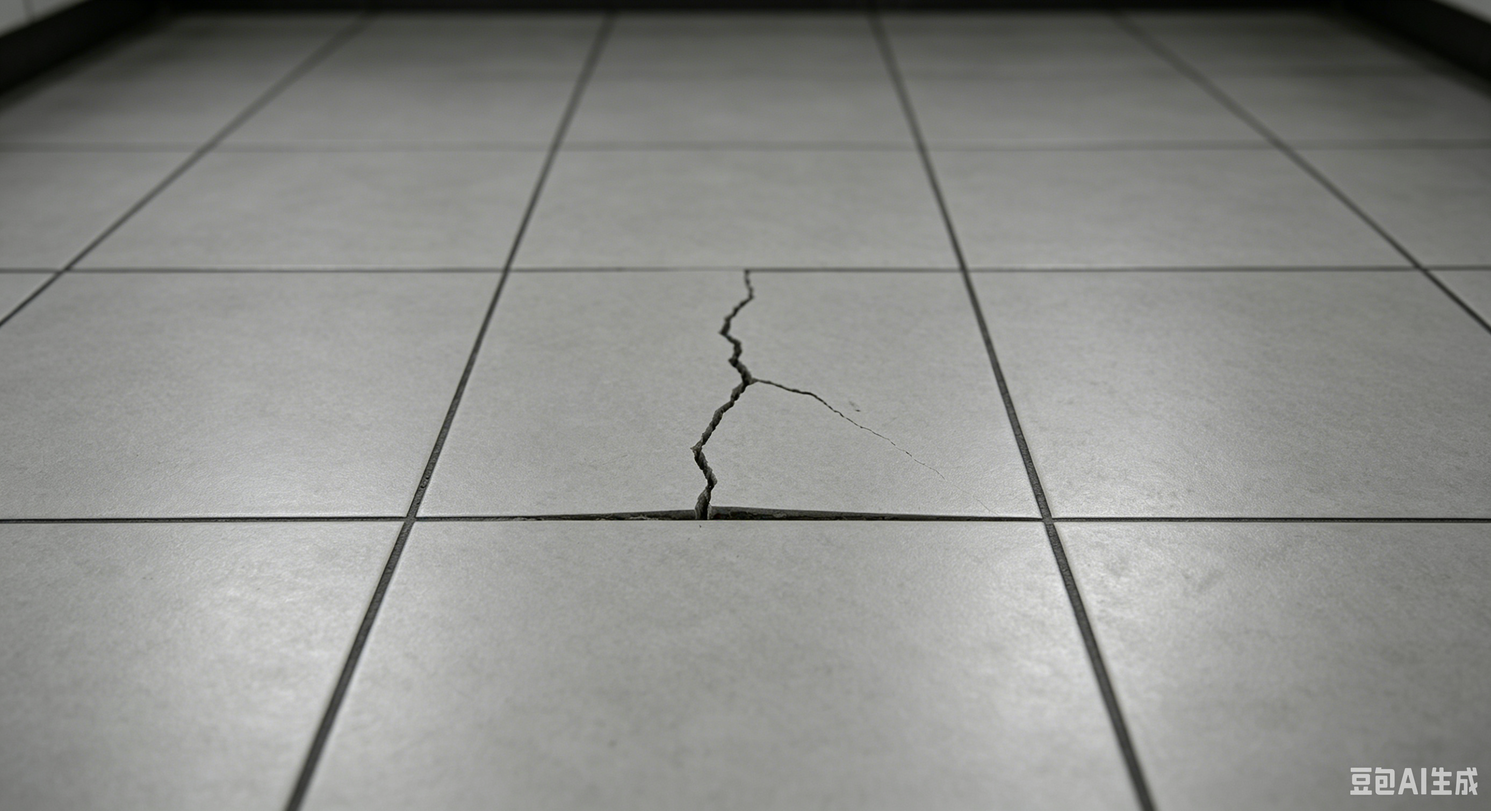floor_defect: (686, 260, 773, 527), (601, 476, 914, 542), (767, 372, 883, 444)
